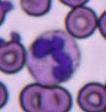N: (28, 30, 80, 85)
